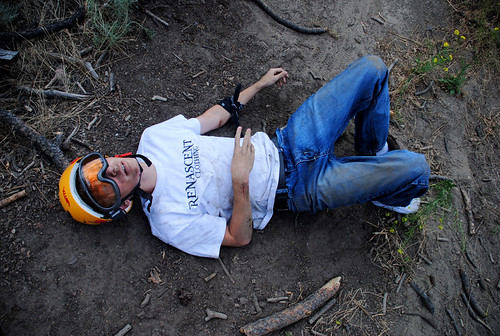helmet: (45, 151, 103, 228)
